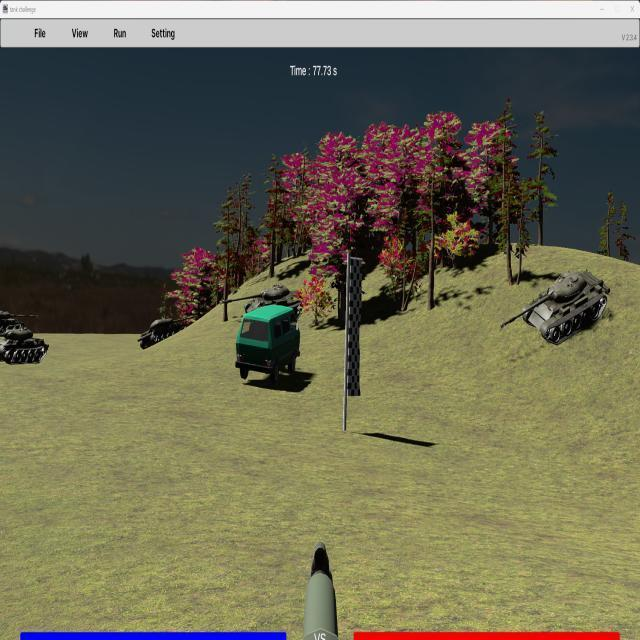Tank: (501, 270, 610, 345), (221, 284, 303, 323), (137, 315, 197, 349), (0, 328, 49, 364), (0, 308, 40, 335)
car: (235, 305, 300, 384)
